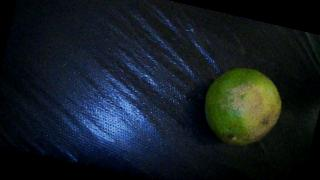DESECHO: (197, 60, 289, 153)
